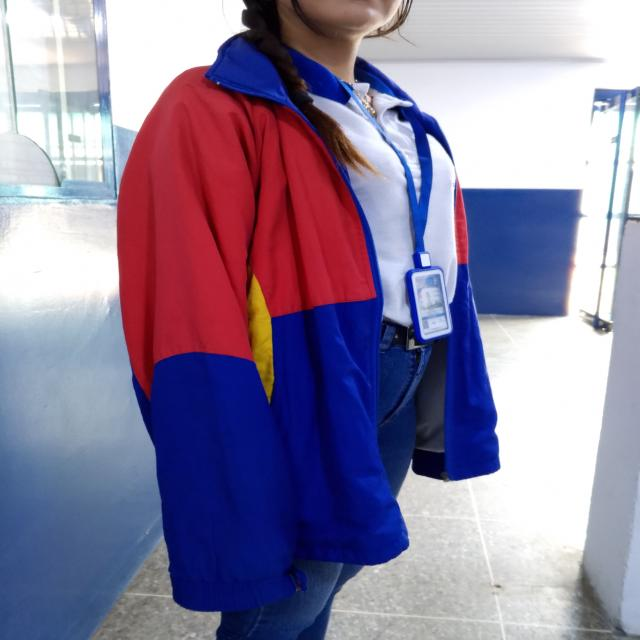carnet: (412, 272, 454, 341)
chaqueta_unefa: (114, 23, 502, 612)
